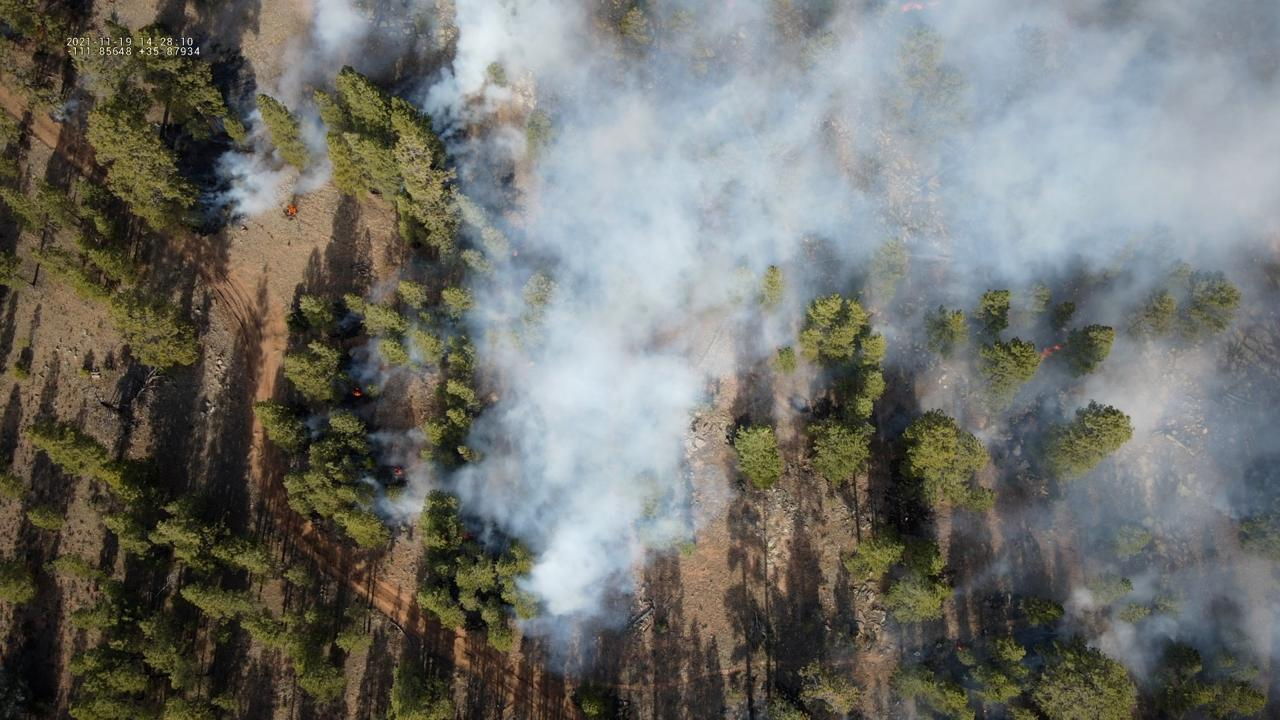fire: (1039, 344, 1061, 359), (391, 464, 406, 477), (284, 204, 297, 217), (350, 386, 362, 398)
smoke: (187, 0, 1280, 720), (49, 96, 84, 122)
